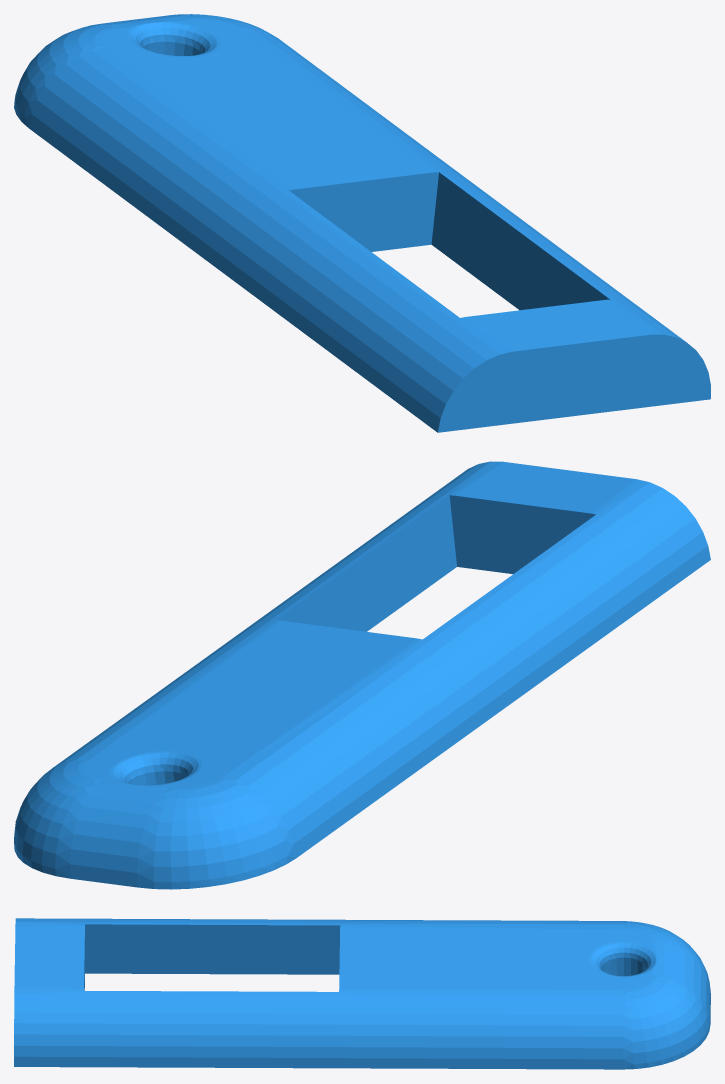
Rendered from UMIRobot_UMIRobot_link_3_vis_3.dae.
3 views of the same model, one above another, from view 1: azimuth 30°, elevation 25°; view 2: azimuth 150°, elevation 25°; view 3: azimuth 270°, elevation 25° (orthographic). The views are drawn at different scales.
Parts seen in each view (by area): view 1: node; view 2: node; view 3: node.
Part boxes in pixels (<box>): node: <box>14,14,710,432</box>; node: <box>14,461,710,889</box>; node: <box>14,918,710,1069</box>.
Size of the model in its own units: 0.0406 by 0.0134 by 0.1202.
